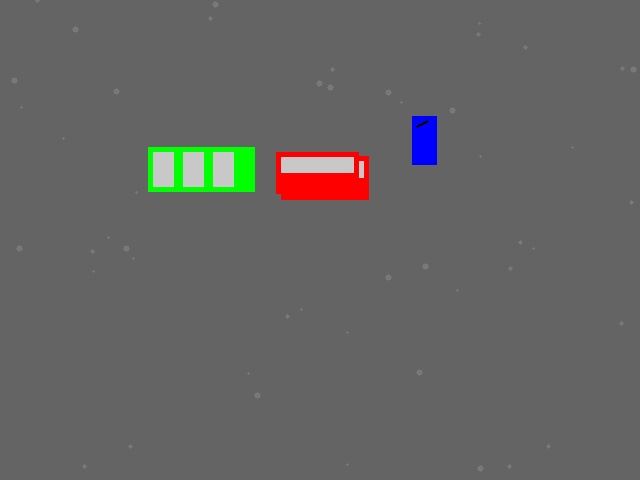bus: (148, 147, 254, 191)
car: (281, 156, 368, 199), (276, 152, 358, 193)
motorcycle: (412, 116, 436, 164)
